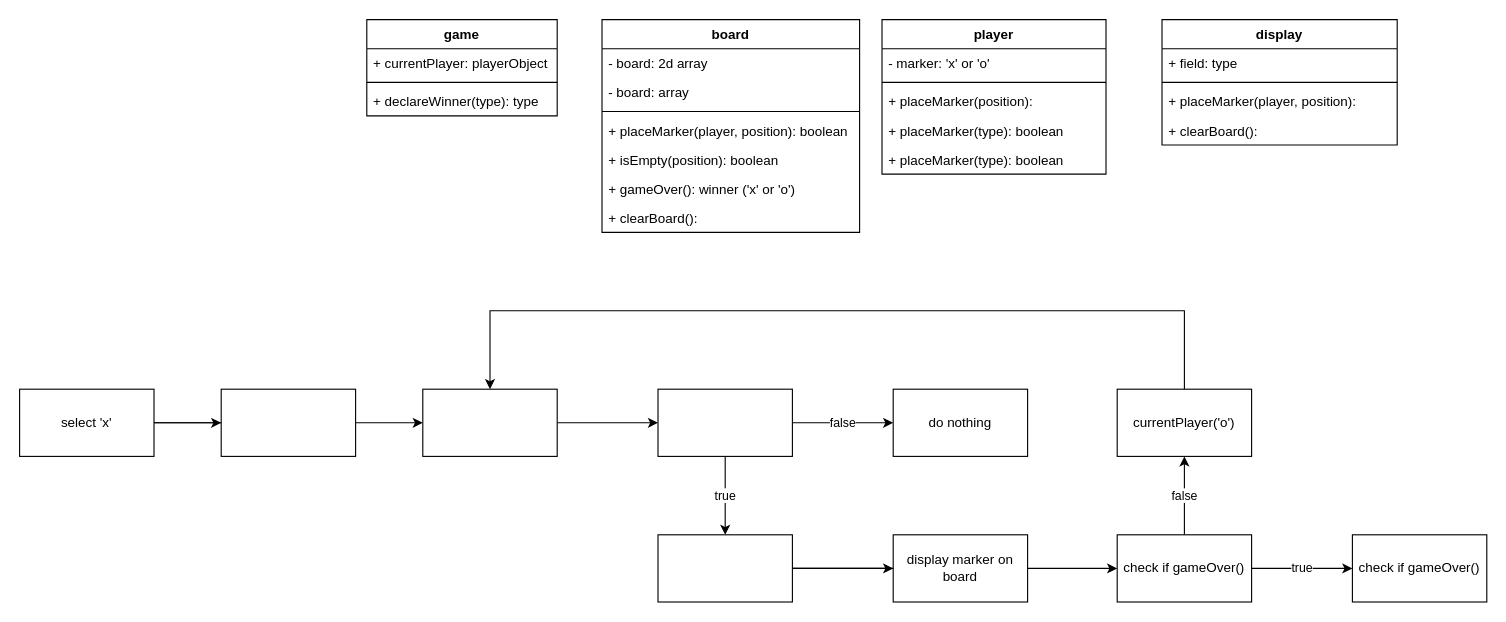
The diagram is 1506 pixels wide and 622 high, and some of its shapes have lost their labels. Here are the shapes that lost their labels. From the top down, the centre of each, then its label:
At point (288, 422): "currentPlayer('x')".
At point (489, 422): "placeMarker(player)".
At point (724, 422): "position isEmpty()".
At point (724, 568): "placeMarker()".
